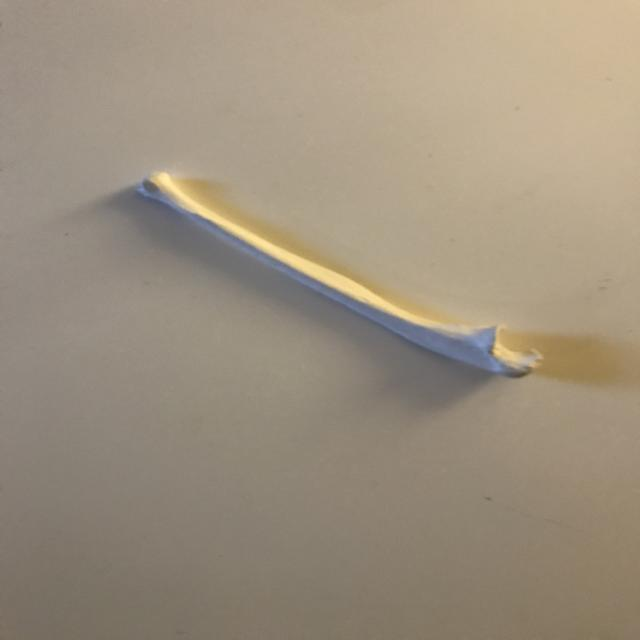bone: (133, 164, 542, 388)
